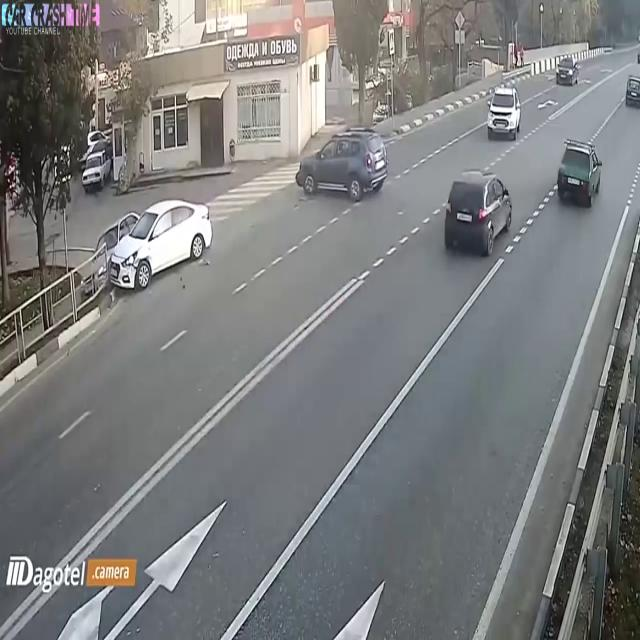Accident: (92, 200, 214, 295)
